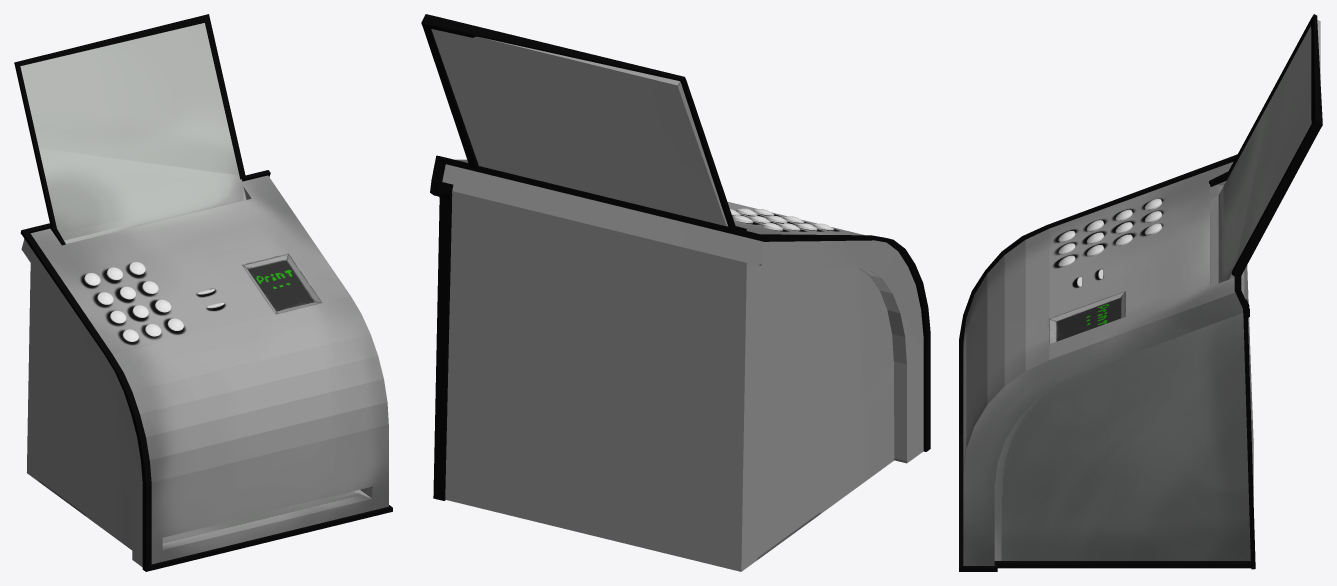
File: FaxMachine.fbx
The picture shows the model from 3 angles, left to right: view 1: azimuth 30°, elevation 25°; view 2: azimuth 150°, elevation 25°; view 3: azimuth 270°, elevation 25°; orthographic projection. The views are drawn at different scales.
Visible parts, largest first — view 1: Cube, Outline; view 2: Cube, Outline; view 3: Cube, Outline.
Part boxes in pixels (left/top/right/bottom): Cube: left=20, top=23, right=388, bottom=567; Outline: left=14, top=14, right=392, bottom=571; Cube: left=431, top=29, right=923, bottom=571; Outline: left=421, top=14, right=930, bottom=500; Cube: left=963, top=20, right=1320, bottom=565; Outline: left=959, top=14, right=1322, bottom=571.
Size of the model in its own units: 204 by 306 by 230.
